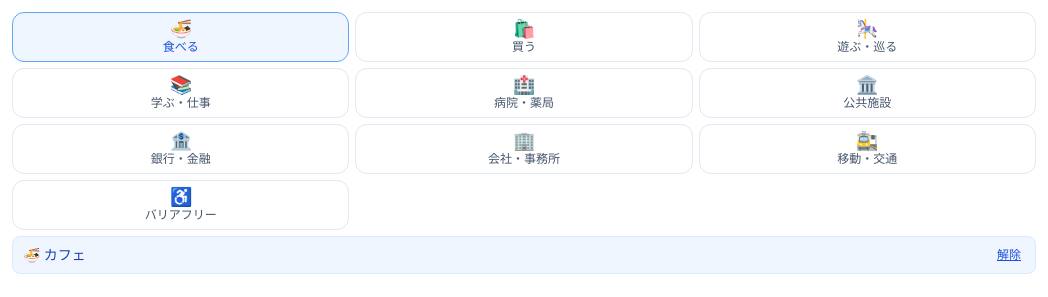
it: CategoryPicker（mobile: 目的チップ） › 選択中カテゴリと異なる目的を展開すると旧選択がクリアされる（stale条件の防止）
Note: 「遊ぶ・巡る」目的チップをタップ → 選択中バッジが消え、遊ぶ・巡るカテゴリが展開
Click the button "🎠 遊ぶ・巡る". click: (867, 37)
box: [699, 12, 1036, 62]
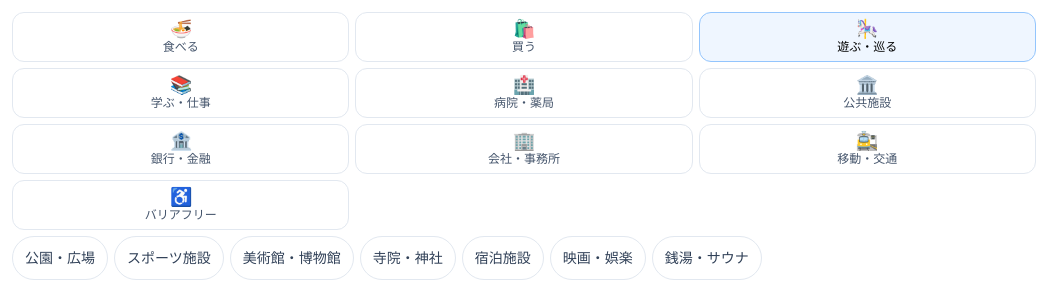
Result: the button "解除" is gone
Result: the button "公園・広場" is shown at [12, 236, 108, 280]
Result: the text "カフェ" is gone
